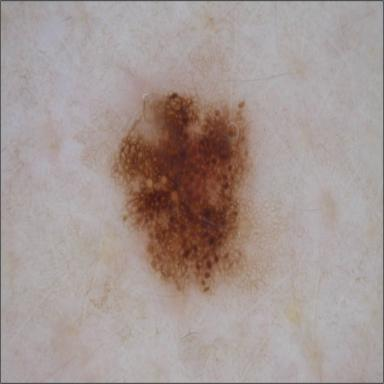nevus: (113, 91, 249, 292)
